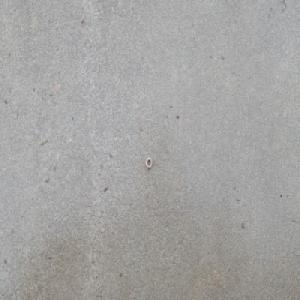Nut: (145, 156, 152, 168)
